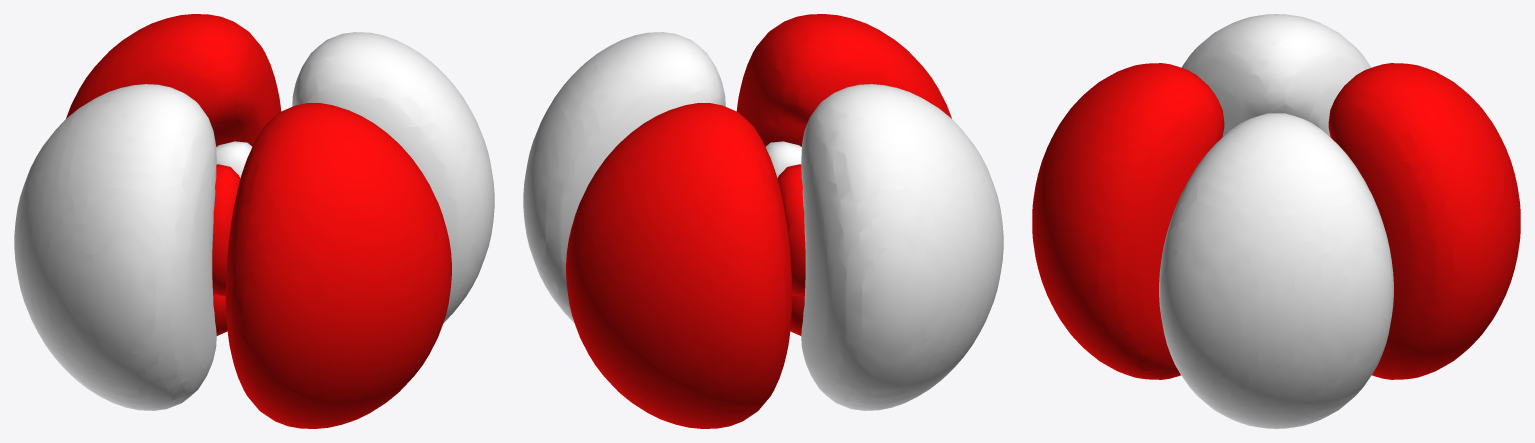
The model's file is Sketchfab_2020_08_24_14_26_06.fbx.
3 views of the same model, side by side, from view 1: azimuth 30°, elevation 25°; view 2: azimuth 150°, elevation 25°; view 3: azimuth 270°, elevation 25° (orthographic). The views are drawn at different scales.
Visible parts, largest first — view 1: subnode_0.013, subnode_1.004; view 2: subnode_0.013, subnode_1.004; view 3: subnode_1.004, subnode_0.013.
Boxes of the visible parts, <box> form: subnode_0.013: <box>14,32,494,410</box>; subnode_1.004: <box>66,14,451,428</box>; subnode_0.013: <box>523,32,1003,410</box>; subnode_1.004: <box>566,14,951,428</box>; subnode_1.004: <box>1032,63,1520,379</box>; subnode_0.013: <box>1159,14,1393,428</box>.
Bounding box in the file's own units: 292 × 199 × 292.
